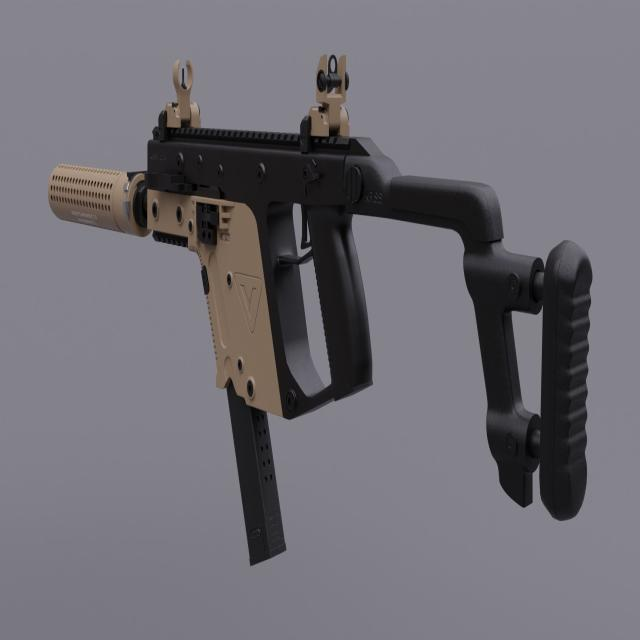SMG: (47, 55, 594, 564)
